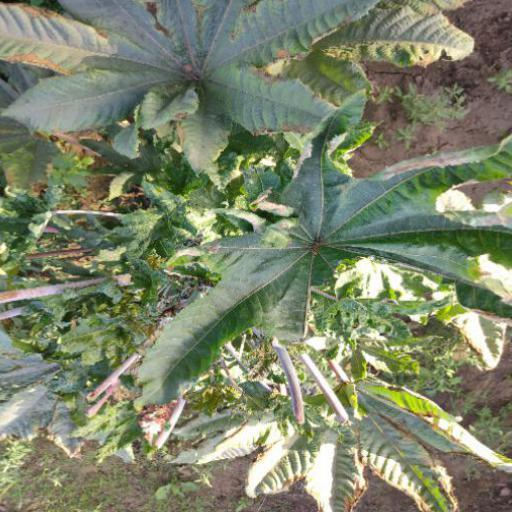weed: (4, 4, 510, 476)
